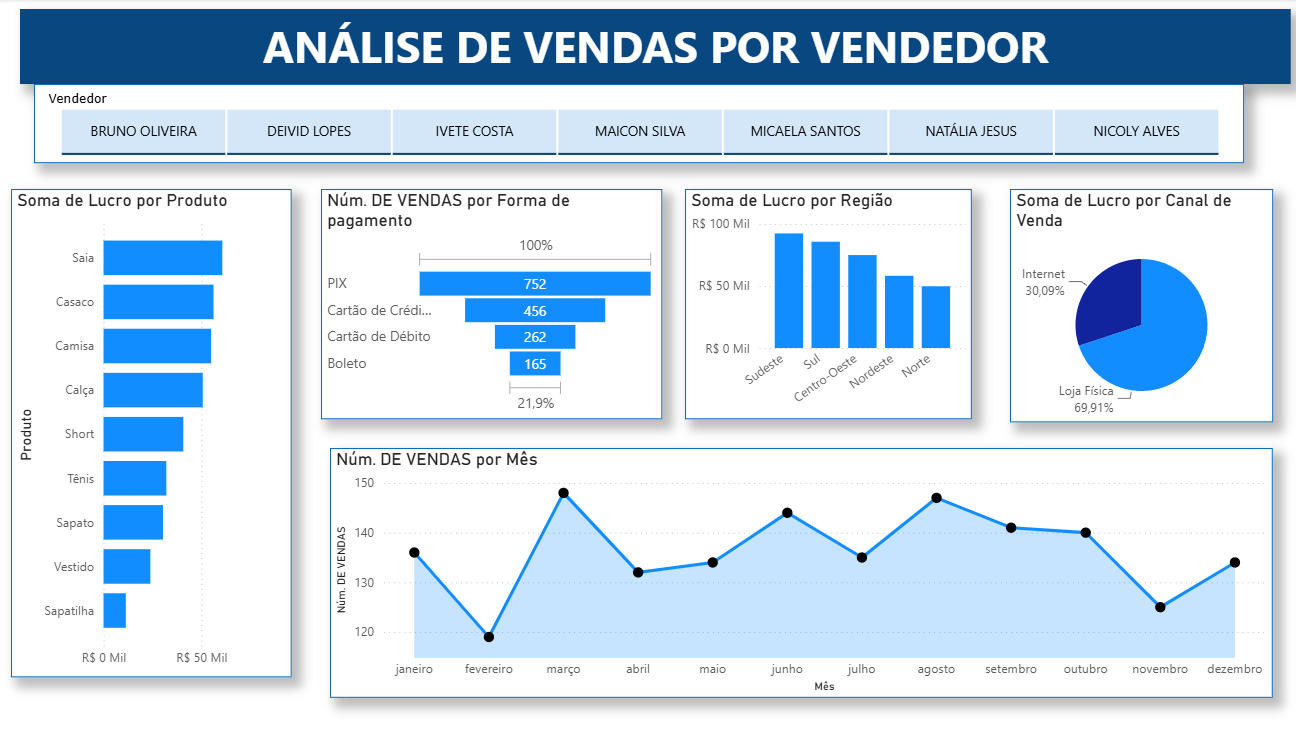

Layout of this report page (visuals, bound fields, positions):
{"tool":"powerbi","page":{"name":"VENDEDOR","canvas":[1280,720],"ordinal":1},"visuals":[{"type":"textbox","box":[24.3,9.7,1236.2,72.9],"z":0},{"type":"slicer","fields":{"Values":["Vendas (2).Vendedor"]},"box":[37.9,82.7,1176.9,76.8],"z":1},{"type":"barChart","fields":{"Y":["Sum(Vendas (2).Lucro)"],"Category":["Vendas (2).Produto"]},"box":[15.6,184.8,273.3,474.7],"z":2},{"type":"funnel","fields":{"Y":["Vendas (2).Núm. DE VENDAS"],"Category":["Vendas (2).Forma de pagamento"]},"box":[317.1,184.8,331.7,223.7],"z":3},{"type":"columnChart","fields":{"Y":["Sum(Vendas (2).Lucro)"],"Category":["Vendas (2).Região"]},"box":[671.1,184.8,279.1,223.7],"z":4},{"type":"pieChart","fields":{"Y":["Sum(Vendas (2).Lucro)"],"Category":["Vendas (2).Canal de Venda"]},"box":[987.2,184.8,255.8,226.6],"z":5},{"type":"lineChart","fields":{"Y":["Vendas (2).Núm. DE VENDAS"],"Category":["Vendas (2).Data da Venda.Variation.Hierarquia de datas.Mês"]},"box":[325.8,436.7,917.2,243.2],"z":6}]}

Visuals, with their boxes in screenshot pixels (x1, y1, x2, y2), scaled from the page's 1280x720 canvas onto the 1296x735 screenshot:
textbox: (25,10,1276,84)
slicer - Vendas (2).Vendedor: (38,84,1230,163)
barChart - Sum(Vendas (2).Lucro) x Vendas (2).Produto: (16,189,293,673)
funnel - Vendas (2).Núm. DE VENDAS x Vendas (2).Forma de pagamento: (321,189,657,417)
columnChart - Sum(Vendas (2).Lucro) x Vendas (2).Região: (679,189,962,417)
pieChart - Sum(Vendas (2).Lucro) x Vendas (2).Canal de Venda: (1000,189,1259,420)
lineChart - Vendas (2).Núm. DE VENDAS x Vendas (2).Data da Venda.Variation.Hierarquia de datas.Mês: (330,446,1259,694)
